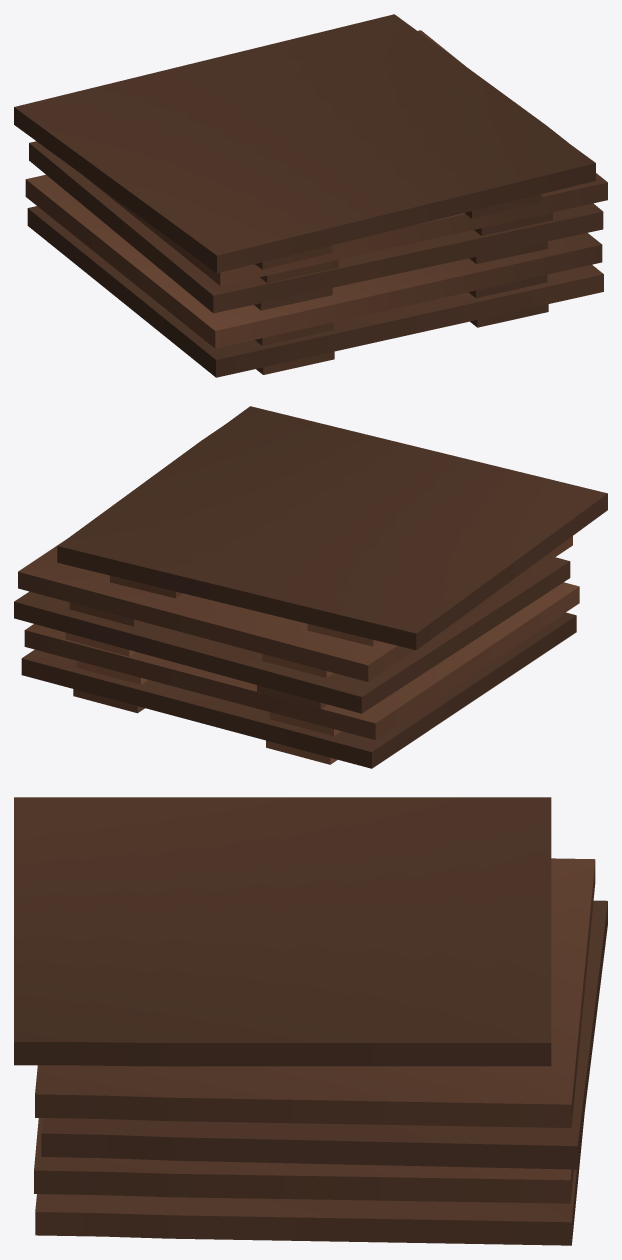
File: Multiple Tall Cherry Crate Lids.fbx
3 renders of one model, top to bottom at view 1: azimuth 30°, elevation 25°; view 2: azimuth 150°, elevation 25°; view 3: azimuth 270°, elevation 25°, orthographic. The views are drawn at different scales.
Parts seen in each view (by area): view 1: Multiple Tall Cherry Crate Lids; view 2: Multiple Tall Cherry Crate Lids; view 3: Multiple Tall Cherry Crate Lids.
Part boxes in pixels (bbox=[...]): Multiple Tall Cherry Crate Lids: bbox=[14, 14, 607, 377]; Multiple Tall Cherry Crate Lids: bbox=[14, 406, 607, 768]; Multiple Tall Cherry Crate Lids: bbox=[14, 797, 607, 1245].
Bounding box in the file's own units: 85.64 × 231 × 247.
1 material, 1 textured.
